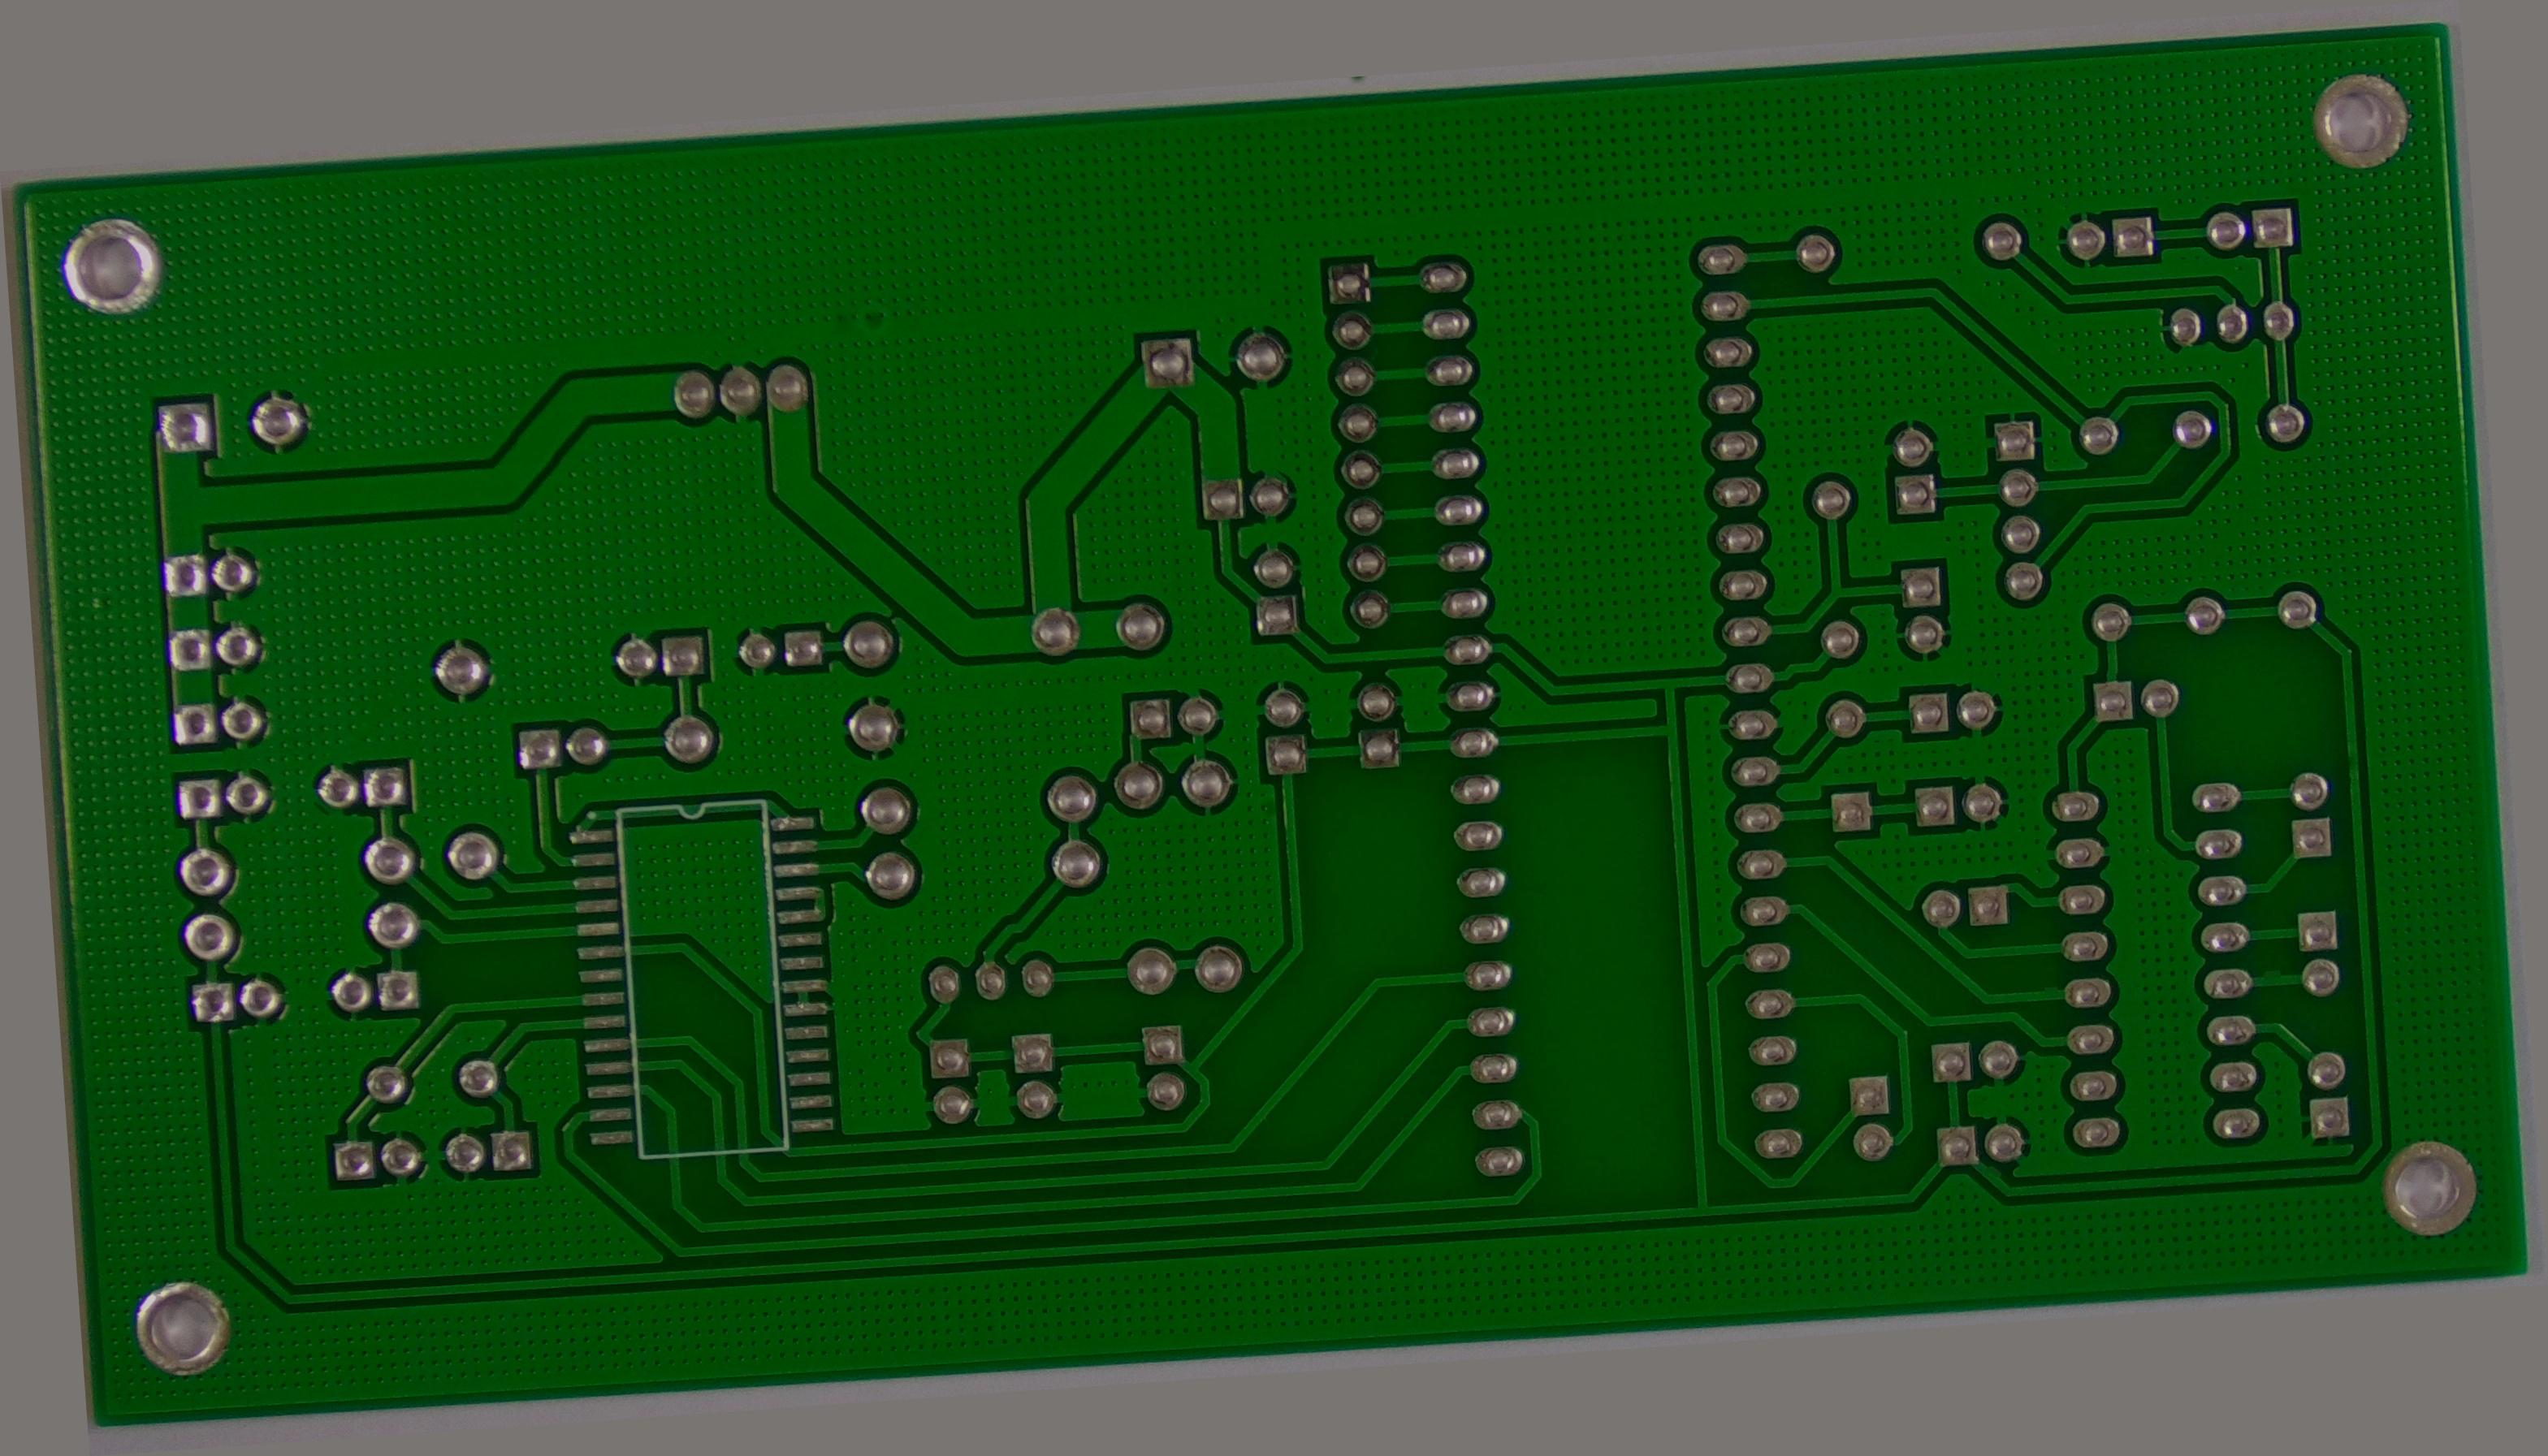spur: (2033, 975, 2068, 1010), (2252, 959, 2291, 991)
